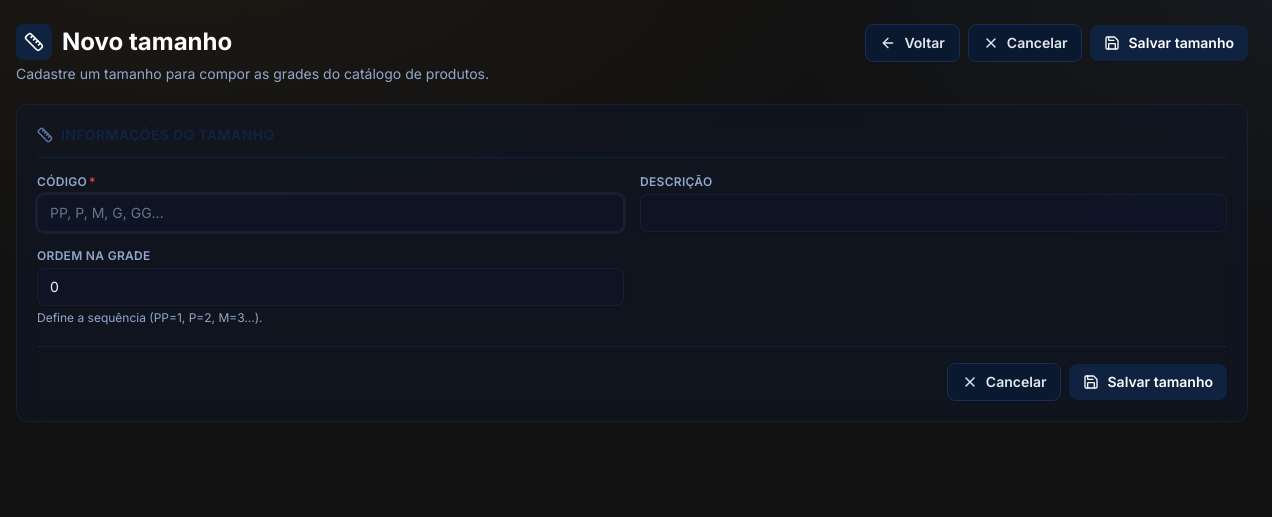
novo tamanho — página própria do ERP › código vazio bloqueia o envio e mantém a página aberta
Click the button "Salvar tamanho" in the row of "Voltar".
click(1169, 43)  # box [1090,25,1248,61]
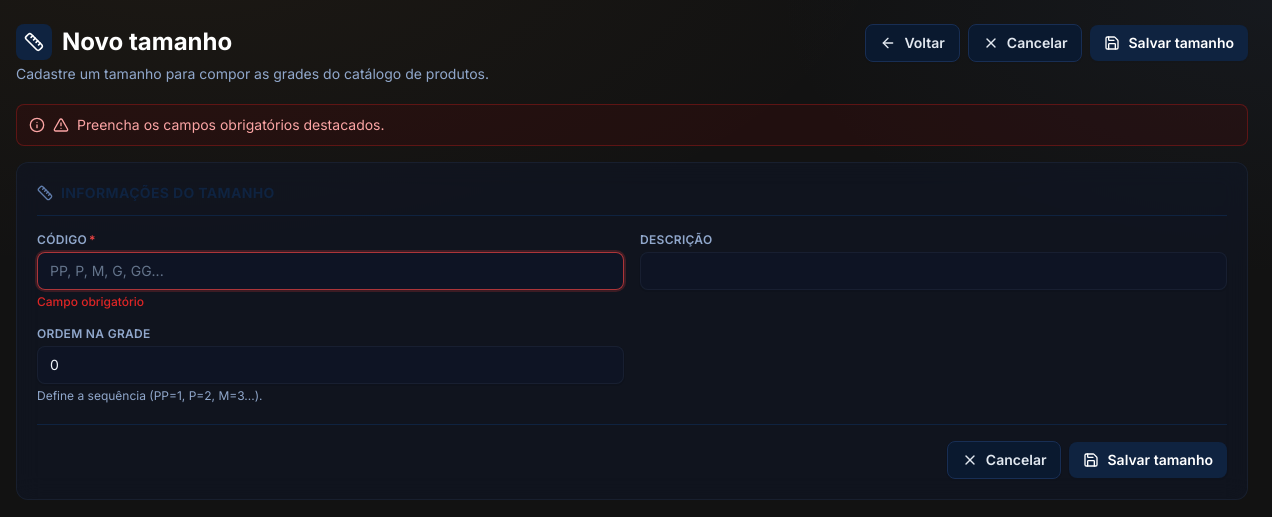
Check: the text "Preencha os campos obrigatórios destacados." is shown, box [77,115,384,135]
